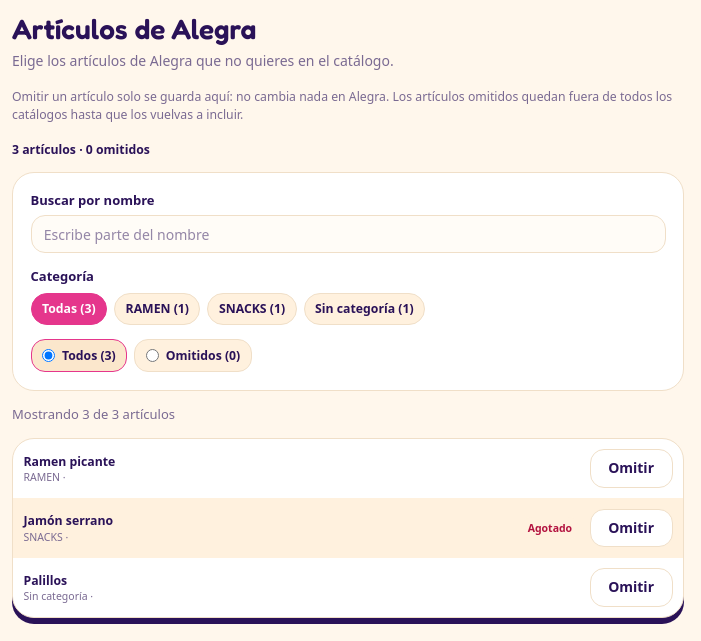
Test: Artículos de Alegra: omitir y volver a incluir › «Omitir» cambia la fila al instante, antes de que responda el servidor, y luego envía PUT
Expected: the text "Ramen picante" is shown, [24,453,115,470]
Click the button with aria-label "Omitir Ramen picante". click: (631, 468)
box: [590,449,672,488]
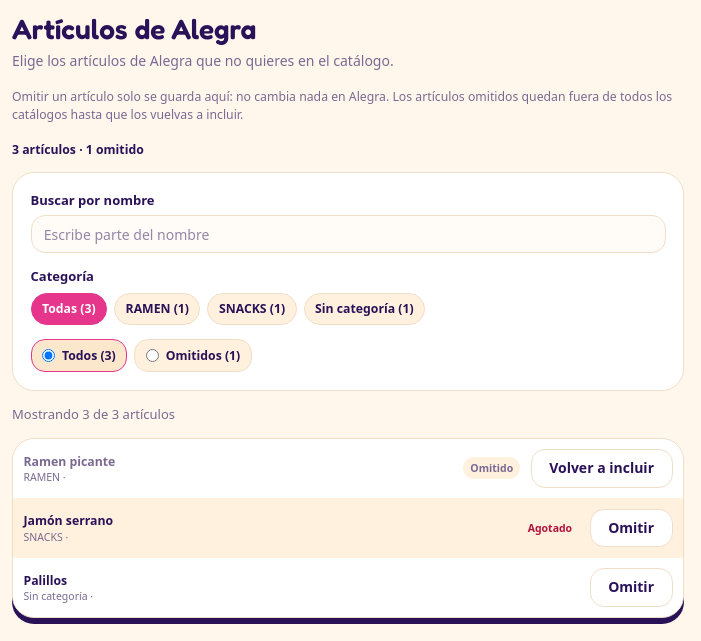
Result: the button with aria-label "Volver a incluir Ramen picante" is shown at [531,449,672,488]
Result: the text "Omitido" is shown at [463,457,520,479]
